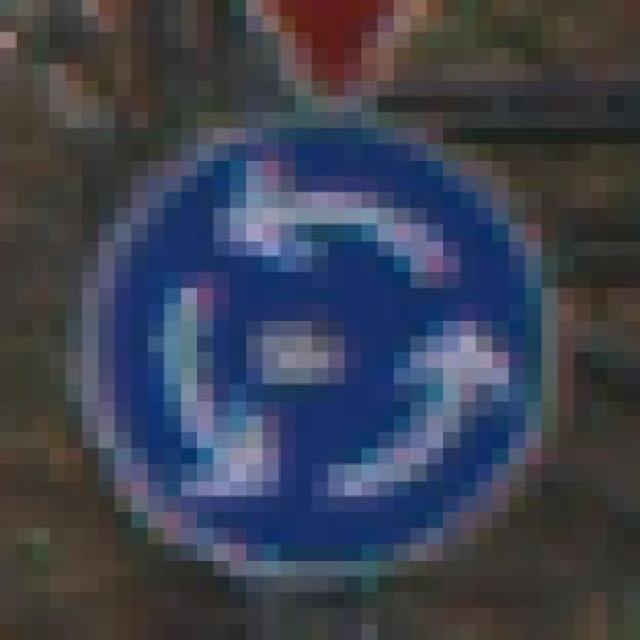Round-About: (49, 80, 591, 592)
